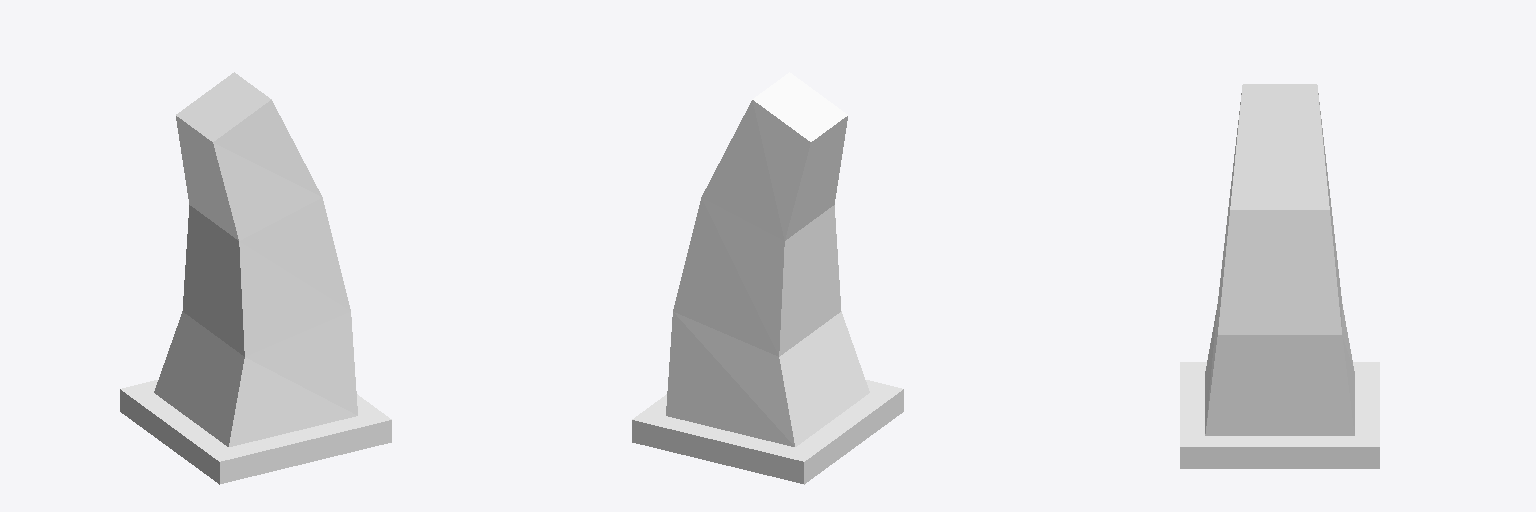
The model's file is pillar_side.obj.
3 renders of one model, left to right at view 1: azimuth 30°, elevation 25°; view 2: azimuth 150°, elevation 25°; view 3: azimuth 270°, elevation 25°, orthographic.
Parts seen in each view (by area): view 1: prong, base; view 2: prong, base; view 3: prong, base.
Part boxes in pixels (x1,y1,x2,y2): prong: (154, 72, 357, 446); base: (120, 380, 391, 484); prong: (666, 72, 869, 446); base: (632, 380, 903, 484); prong: (1205, 84, 1354, 435); base: (1180, 362, 1379, 468).
Bounding box in the file's own units: 1 × 1.89 × 1.